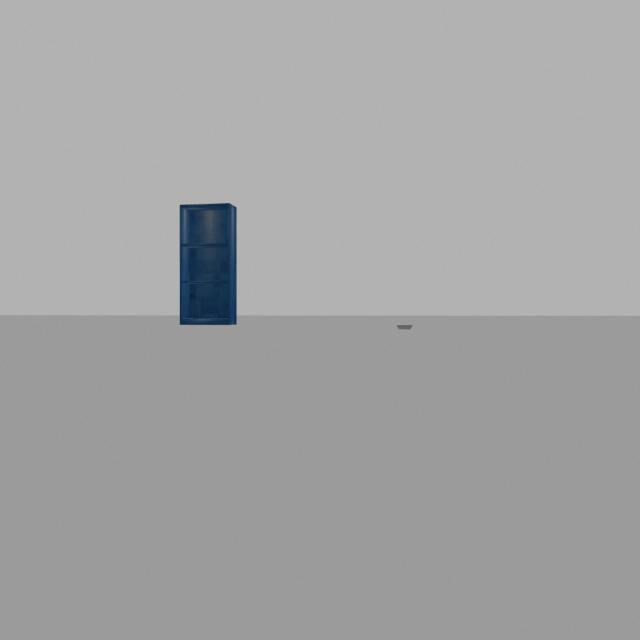bowl: (394, 315, 418, 336)
shelf: (166, 196, 244, 336)
